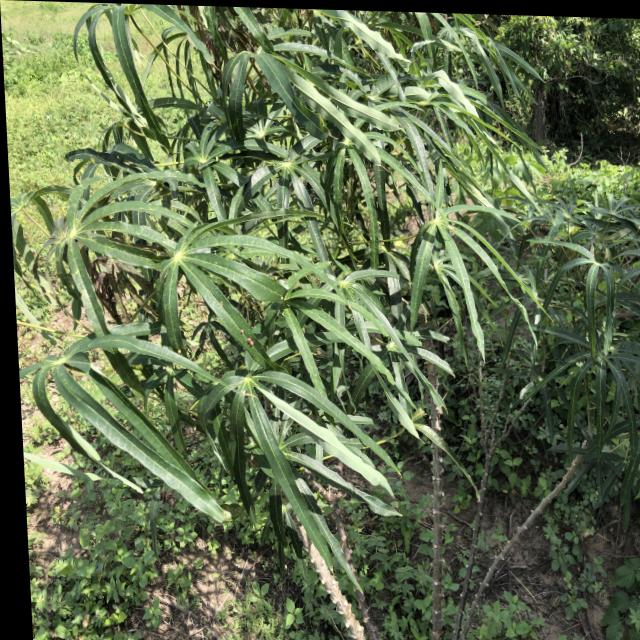Mosca: (240, 324, 260, 350), (217, 87, 237, 109), (568, 356, 582, 379), (164, 92, 185, 107), (534, 367, 547, 387), (571, 418, 581, 434)
